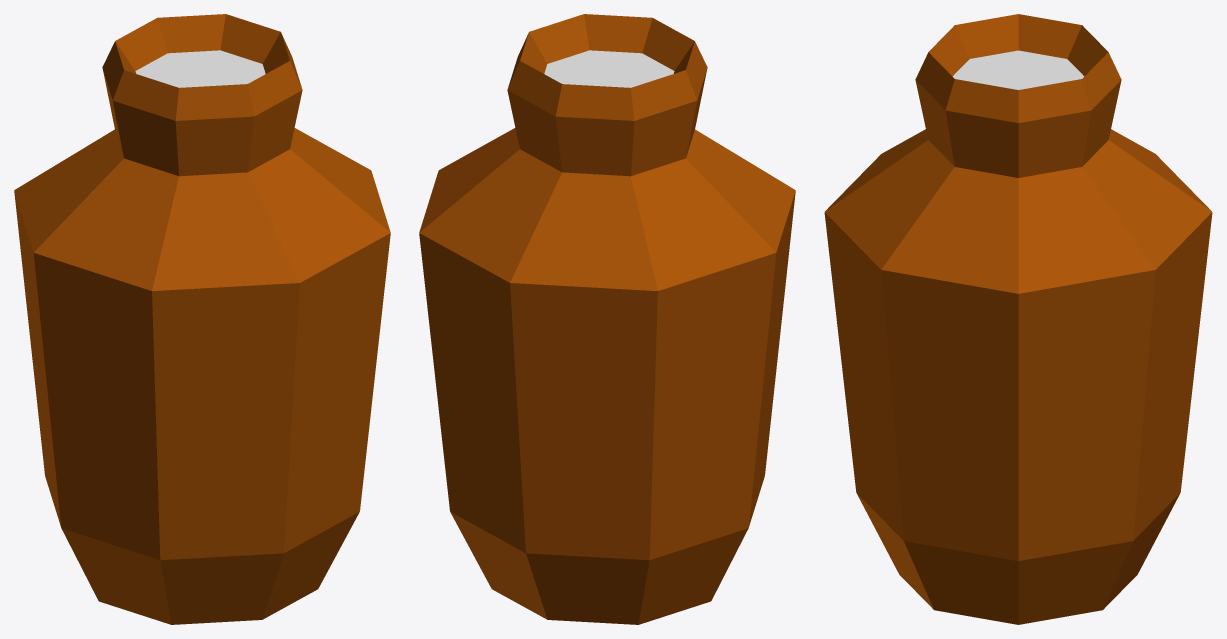
The model's file is jar-medium.fbx.
The picture shows the model from 3 angles, left to right: view 1: azimuth 30°, elevation 25°; view 2: azimuth 150°, elevation 25°; view 3: azimuth 270°, elevation 25°; orthographic projection.
Visible parts, largest first — view 1: jar-medium; view 2: jar-medium; view 3: jar-medium.
Part boxes in pixels (x1,y1,x2,y2): jar-medium: (14,14,390,624); jar-medium: (419,14,795,624); jar-medium: (824,14,1212,624).
Size of the model in its own units: 0.4826 by 0.7343 by 0.4826.
